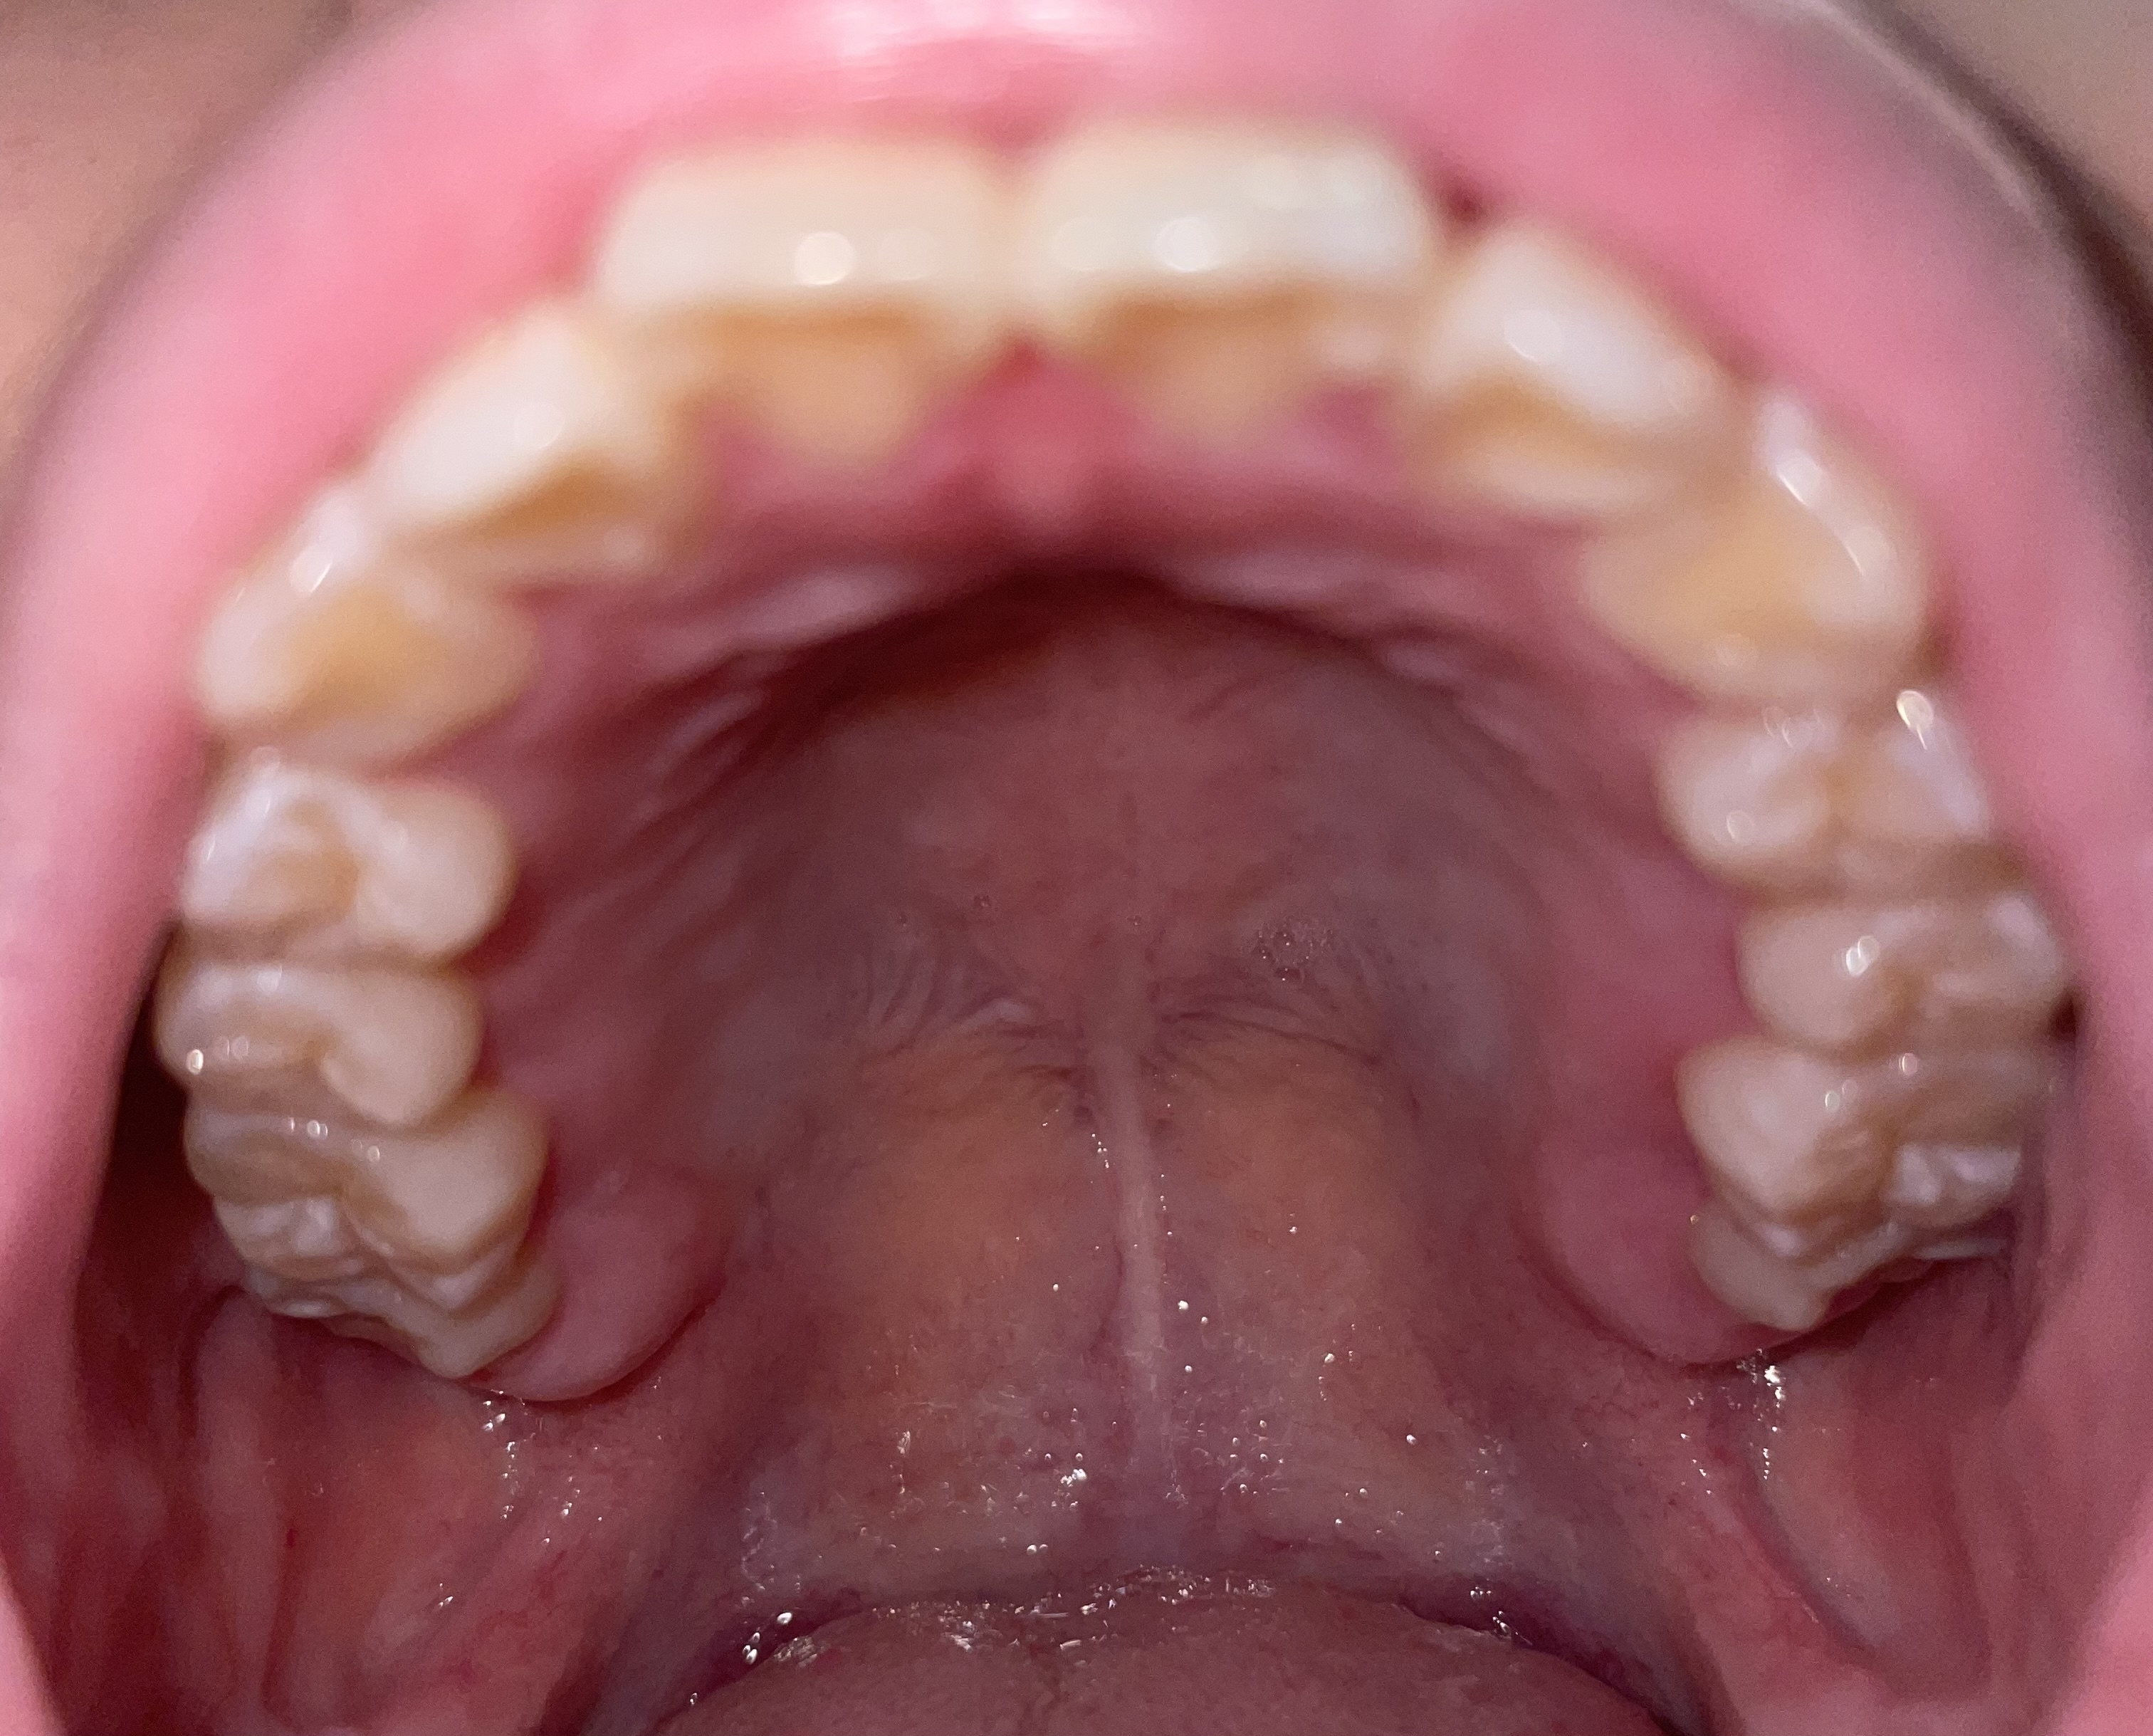teeth: (1385, 220, 1771, 528), (591, 151, 968, 461), (1601, 384, 1944, 710), (1032, 145, 1418, 434), (193, 487, 528, 769), (368, 312, 691, 577), (1682, 1045, 2049, 1252), (1648, 696, 1997, 898), (186, 767, 531, 964), (211, 1095, 542, 1290), (159, 964, 478, 1120), (1763, 895, 2061, 1040)
